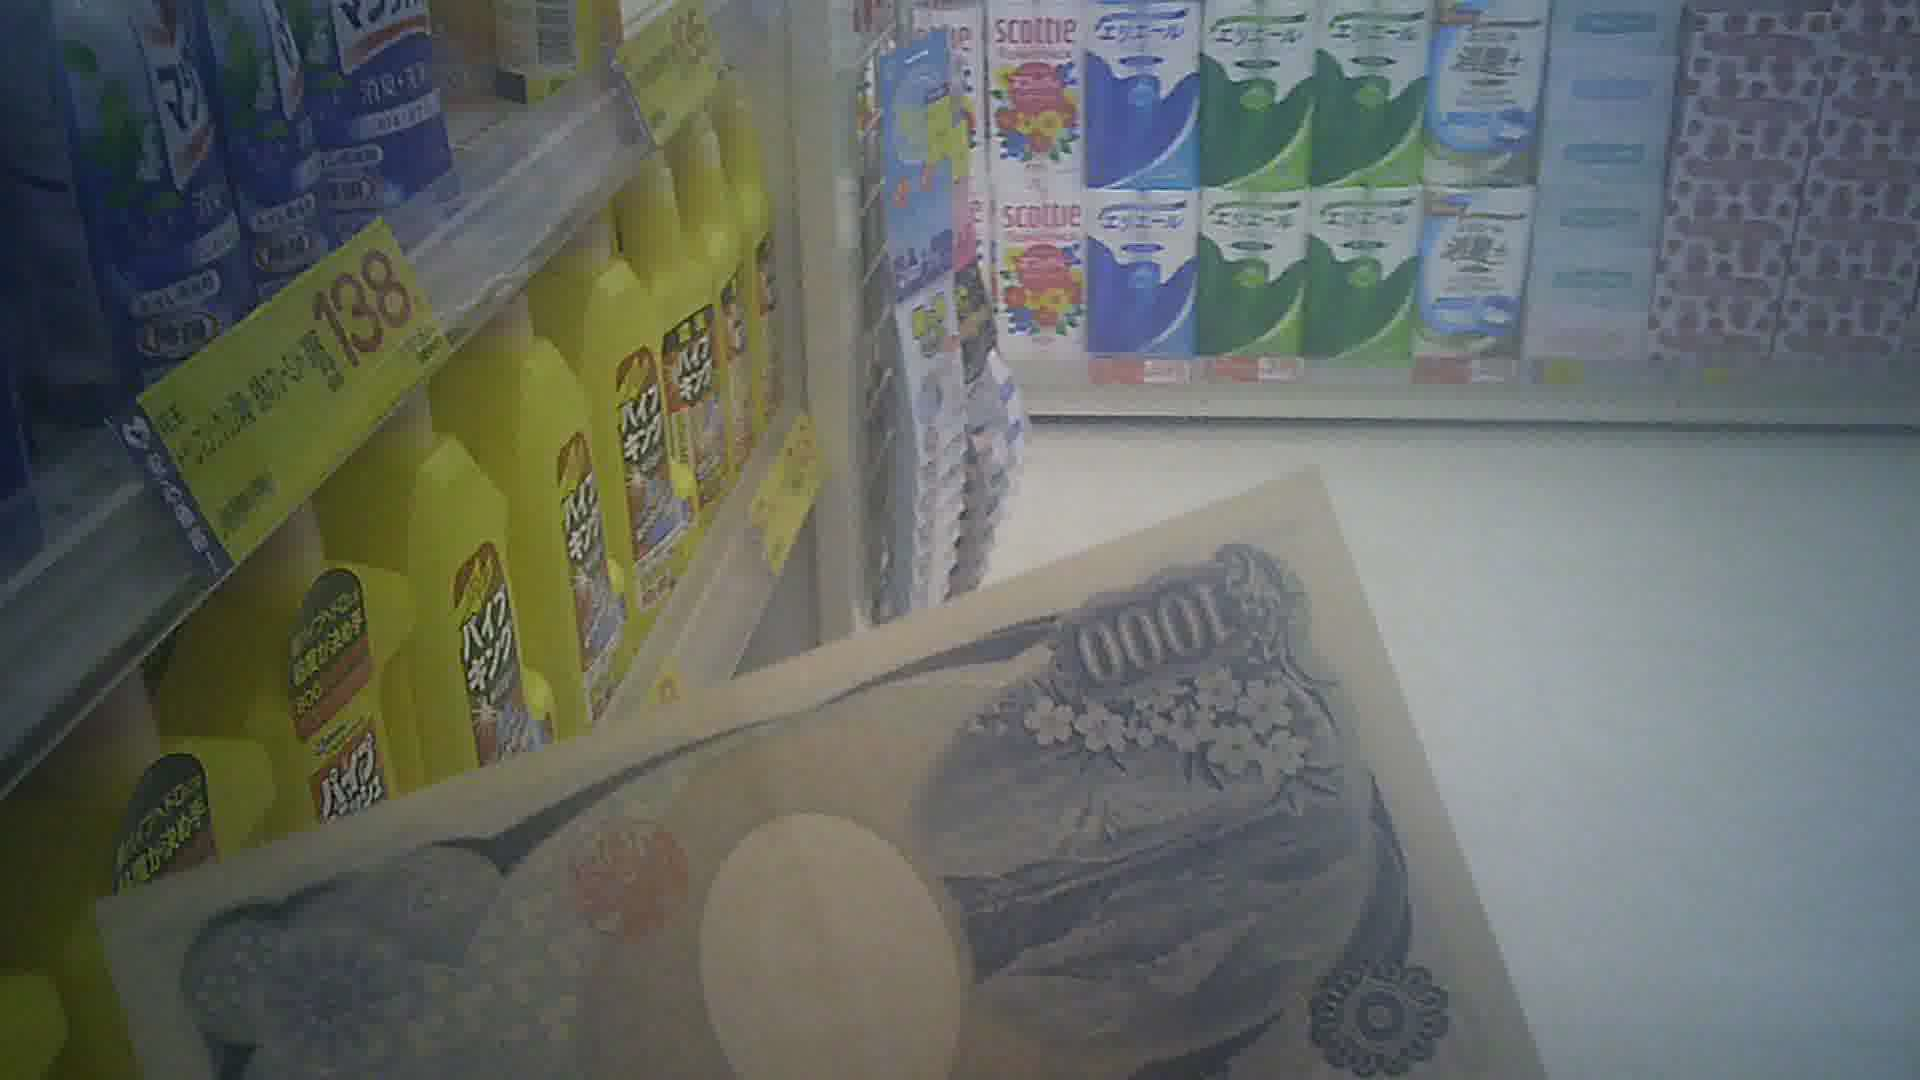1,000 Yen: (80, 444, 1545, 1079)
